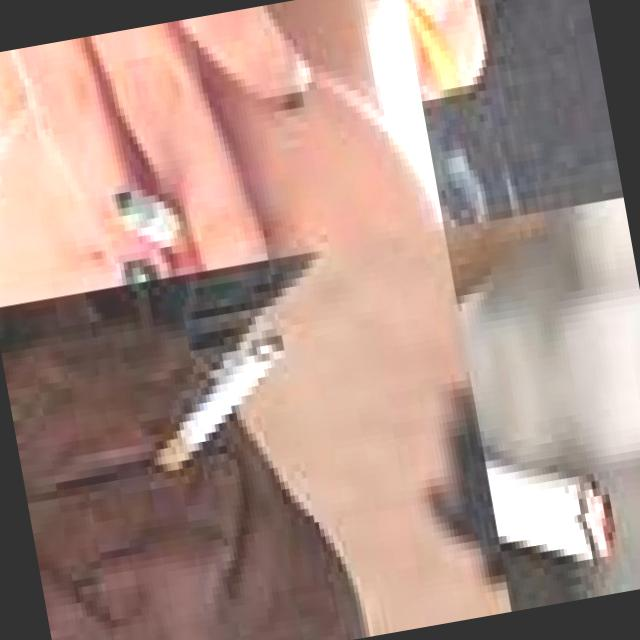cigarette: (466, 336, 626, 588), (125, 327, 304, 482), (101, 183, 191, 271), (401, 0, 463, 102)
